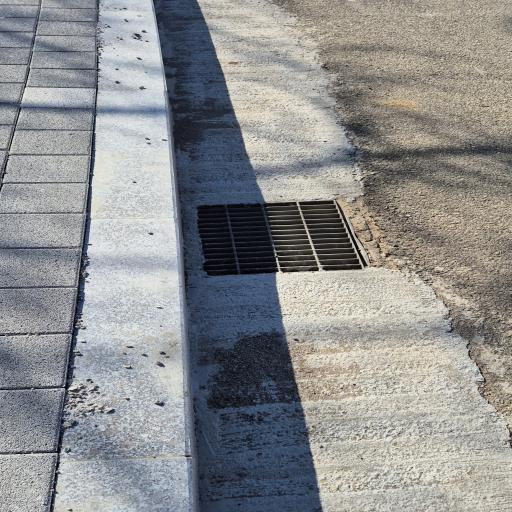drain: (198, 200, 366, 275)
